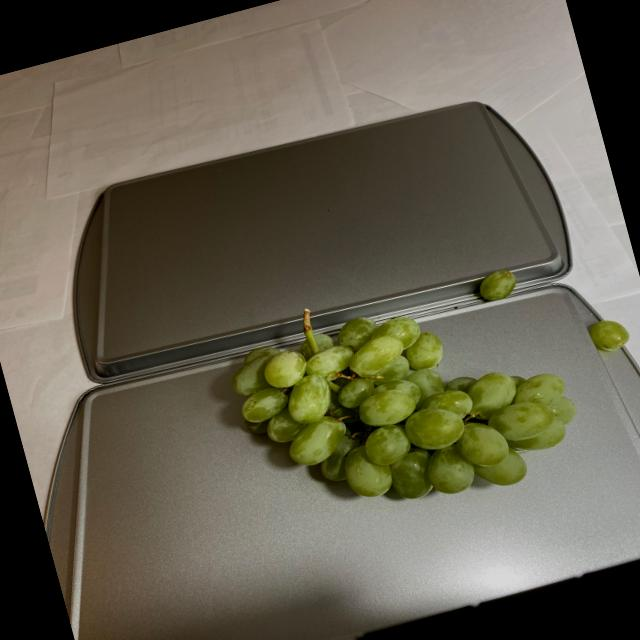grapes: (182, 255, 591, 561), (582, 314, 634, 361)
